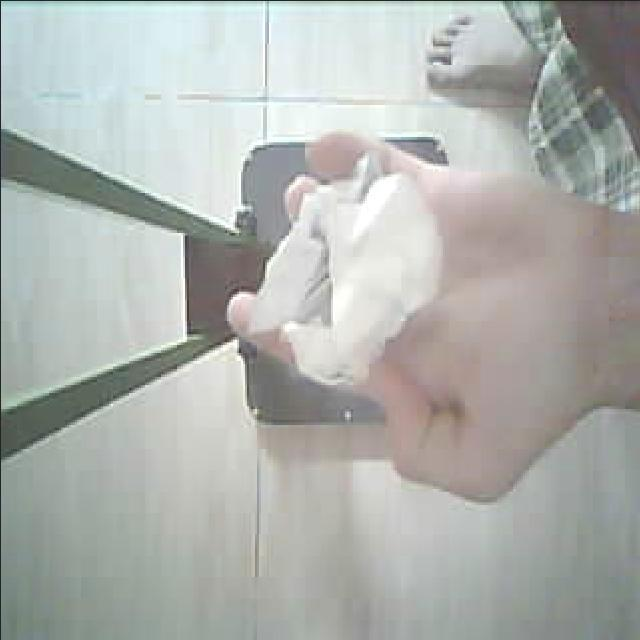Paper: (132, 127, 460, 418)
